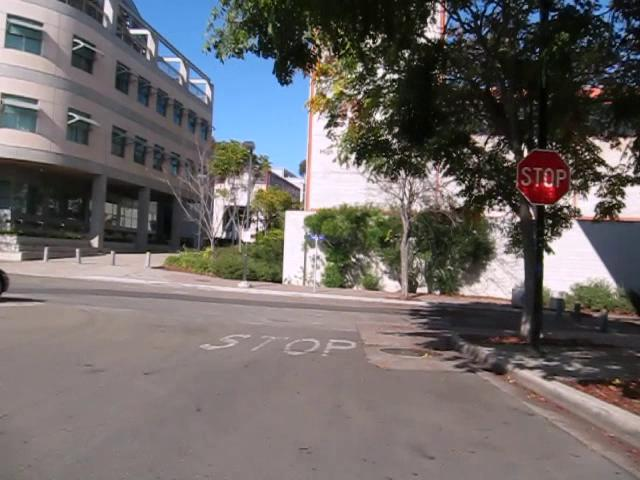stop: (515, 148, 571, 205)
